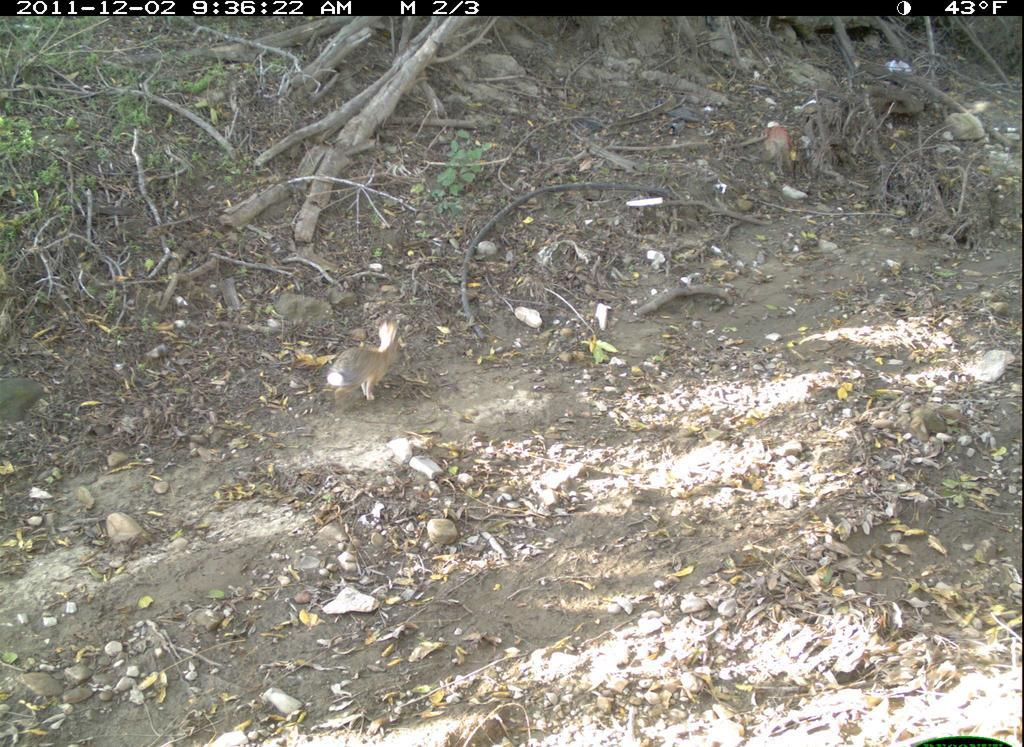rabbit: (317, 313, 417, 415)
